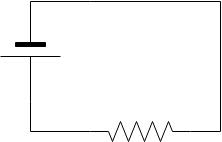Battery: (1, 28, 74, 77)
